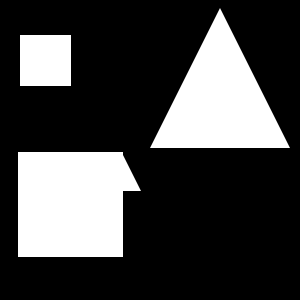circle: (18, 152, 123, 257), (20, 35, 71, 86)
triangle: (150, 8, 290, 148), (102, 152, 141, 191)
